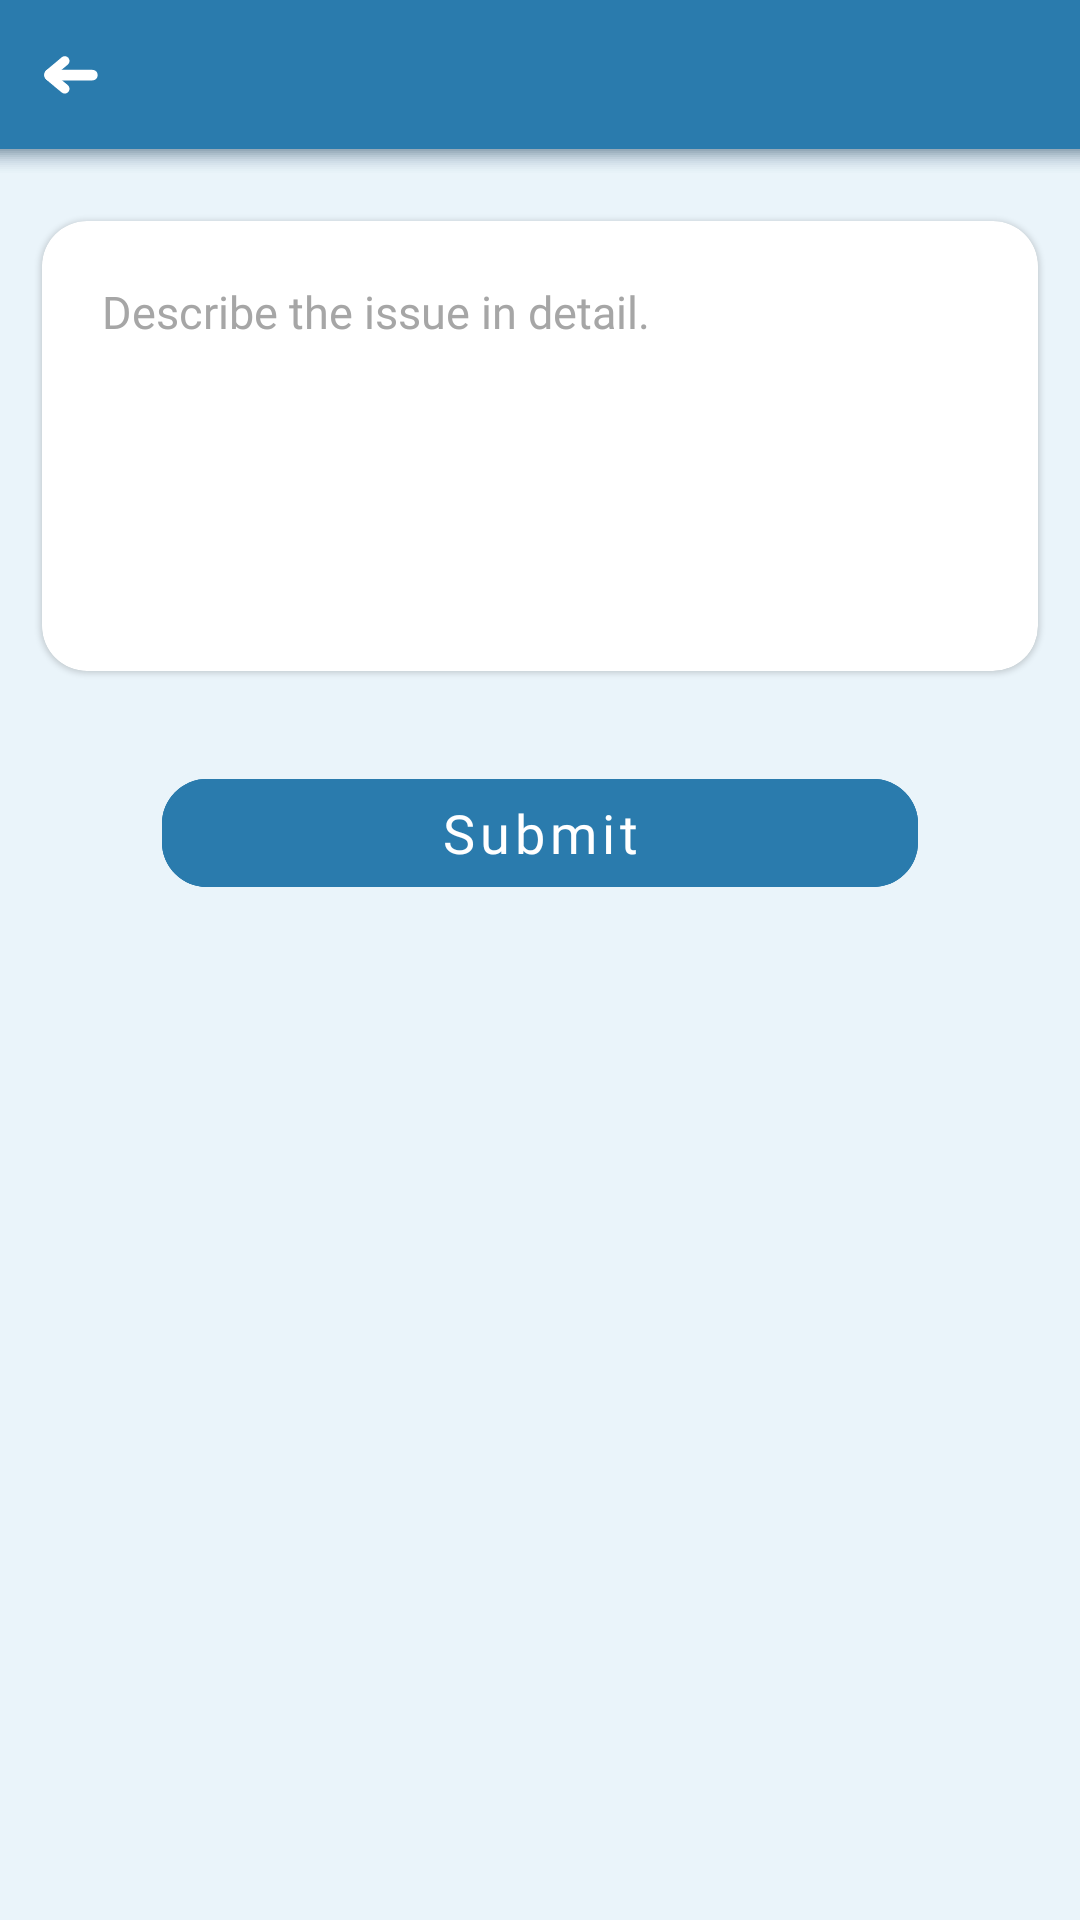

Named icons in this screenshot (1080×1920) and their centers, point (x, y):
arrow reverse: point (71, 75)
